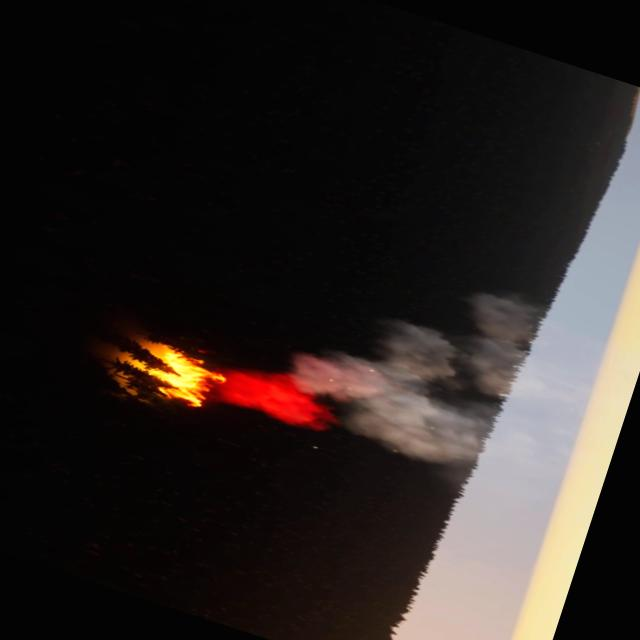fire: (128, 336, 224, 416)
smoke: (214, 220, 554, 498)
